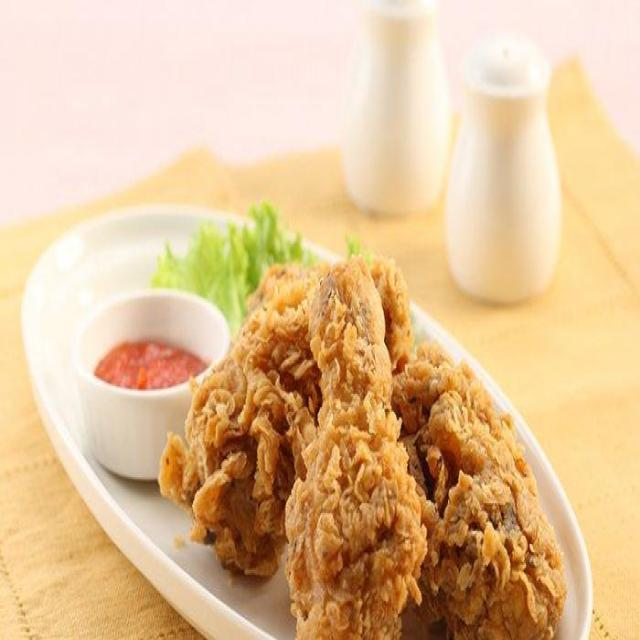Frango: (252, 262, 570, 637), (164, 262, 407, 583), (289, 246, 433, 640)
